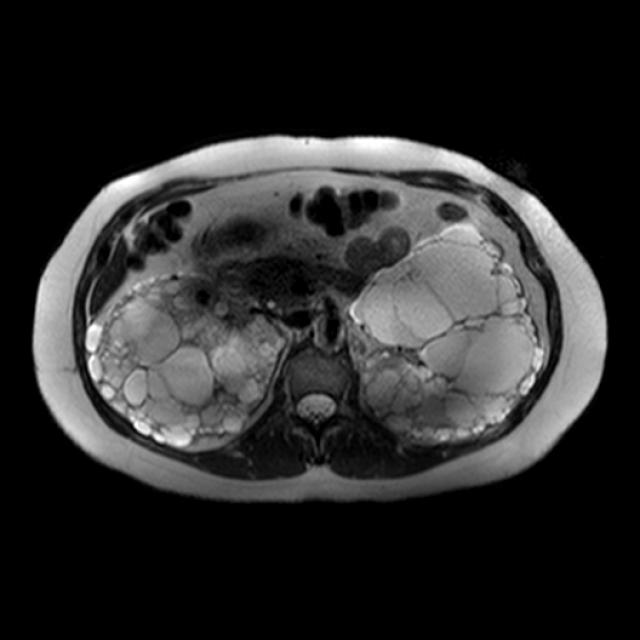sag: (84, 273, 285, 447)
sol: (348, 224, 544, 442)
